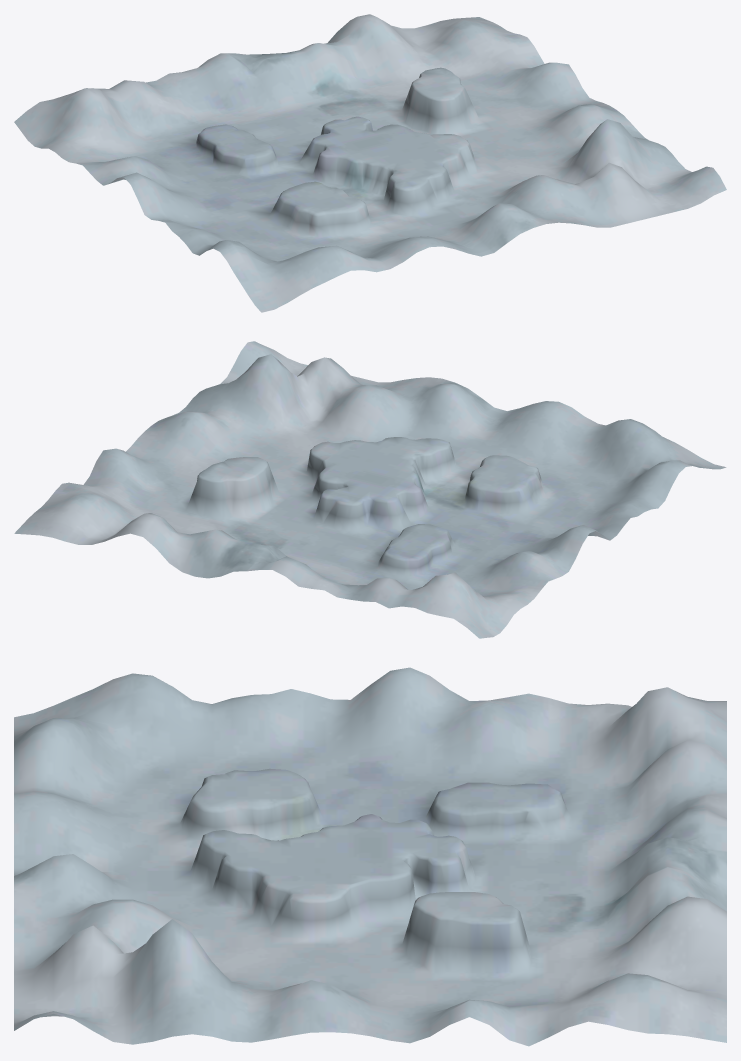
The model's file is rzjd_3_dimain.FBX.
The picture shows the model from 3 angles, top to bottom: view 1: azimuth 30°, elevation 25°; view 2: azimuth 150°, elevation 25°; view 3: azimuth 270°, elevation 25°; orthographic projection. The views are drawn at different scales.
Visible parts, largest first — view 1: rzjd_3_dimain; view 2: rzjd_3_dimain; view 3: rzjd_3_dimain.
Boxes of the visible parts, box(x1,y1,x2,y2) form: rzjd_3_dimain: box(14, 14, 726, 312); rzjd_3_dimain: box(14, 341, 726, 638); rzjd_3_dimain: box(14, 667, 726, 1046).
Bounding box in the file's own units: 11096 × 1360 × 10215.
